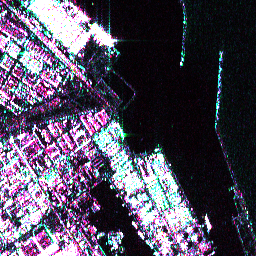ship: (89, 21, 117, 48), (200, 212, 214, 232), (134, 228, 147, 242), (128, 218, 140, 231)
